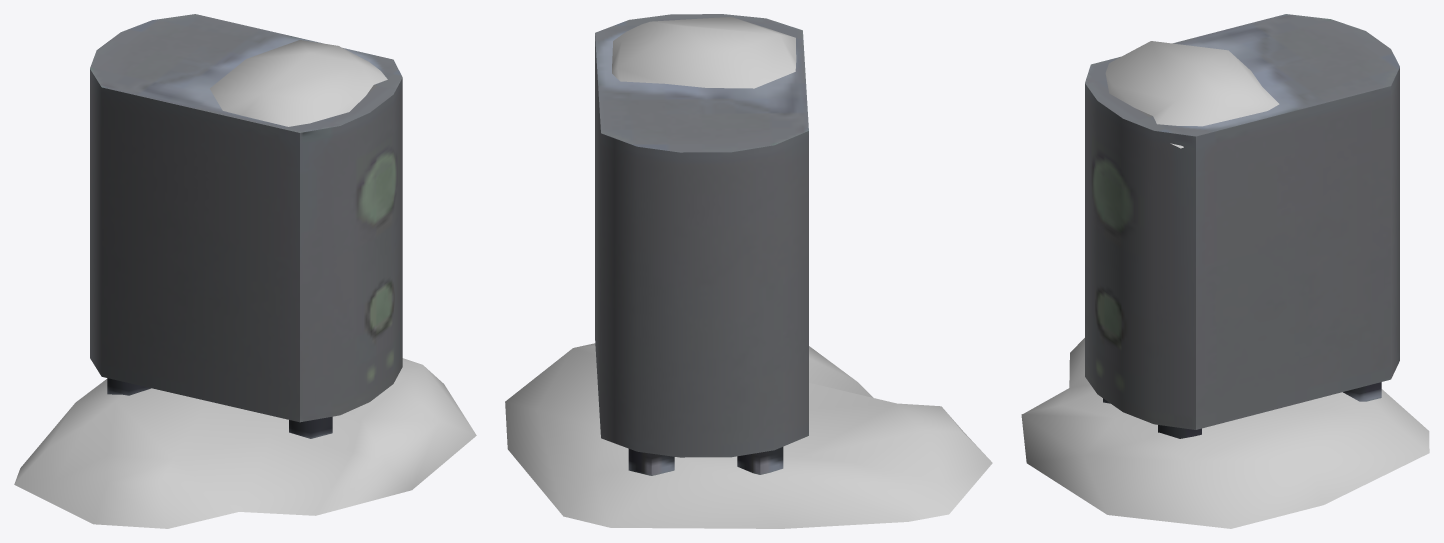
File: pref_sm_city_bornbus04_snow_lv3.fbx
The picture shows the model from 3 angles, left to right: view 1: azimuth 30°, elevation 25°; view 2: azimuth 150°, elevation 25°; view 3: azimuth 270°, elevation 25°; orthographic projection. The views are drawn at different scales.
Parts seen in each view (by area): view 1: sm_city_bornbus04_snow_lv3, sm_city_bornbus04b_snow_lv3; view 2: sm_city_bornbus04_snow_lv3, sm_city_bornbus04b_snow_lv3; view 3: sm_city_bornbus04_snow_lv3, sm_city_bornbus04b_snow_lv3.
Part boxes in pixels (x1,y1,x2,y2): sm_city_bornbus04_snow_lv3: (90, 14, 402, 438); sm_city_bornbus04b_snow_lv3: (14, 40, 476, 528); sm_city_bornbus04_snow_lv3: (595, 14, 808, 475); sm_city_bornbus04b_snow_lv3: (505, 17, 992, 528); sm_city_bornbus04_snow_lv3: (1085, 14, 1399, 438); sm_city_bornbus04b_snow_lv3: (1021, 41, 1429, 528).
Size of the model in its own units: 2.67 by 2.28 by 2.18.
